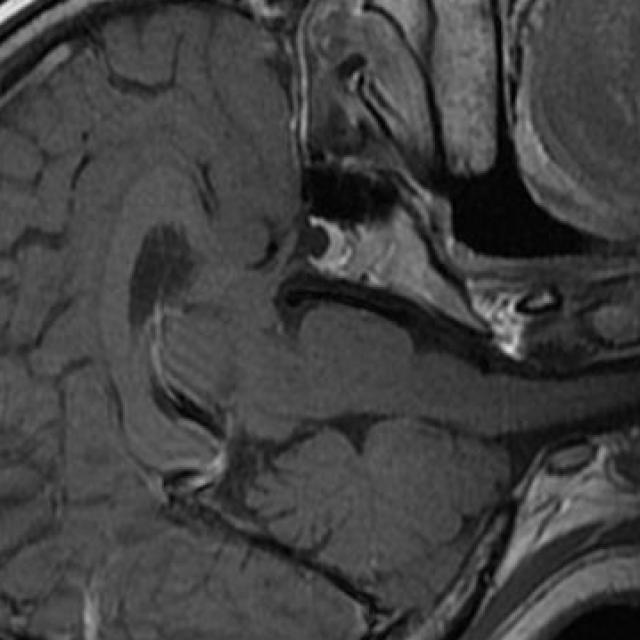pituitary: (307, 214, 353, 275)
